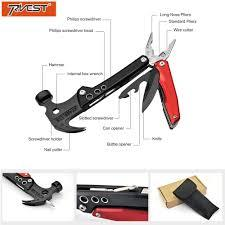hammer: (32, 70, 118, 134)
